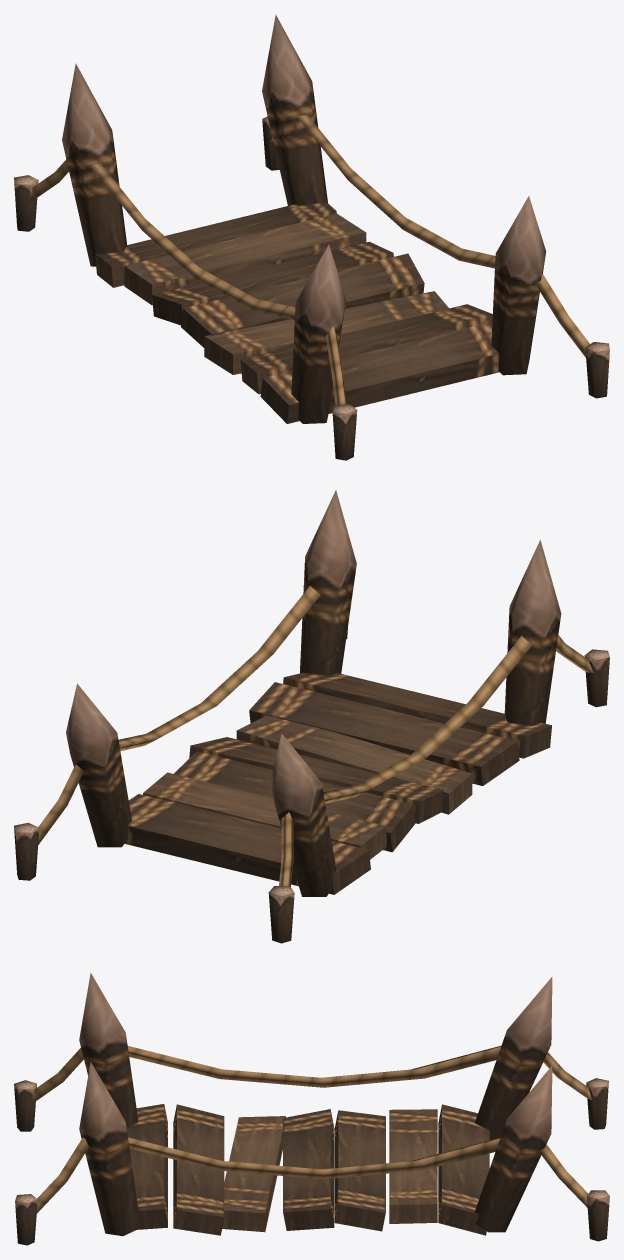
File: ice_bridge.FBX
The picture shows the model from 3 angles, top to bottom: view 1: azimuth 30°, elevation 25°; view 2: azimuth 150°, elevation 25°; view 3: azimuth 270°, elevation 25°; orthographic projection. The views are drawn at different scales.
Parts seen in each view (by area): view 1: Object038; view 2: Object038; view 3: Object038.
Part boxes in pixels (box(x1,y1,x2,y2)): Object038: box(14, 14, 609, 460); Object038: box(14, 490, 609, 943); Object038: box(14, 973, 609, 1245).
Size of the model in its own units: 71.79 by 144 by 45.38.
